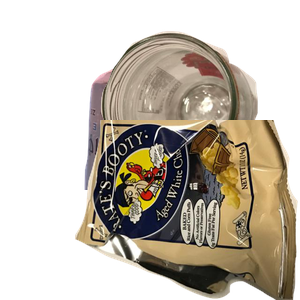glass: (98, 29, 300, 198)
metal: (82, 66, 270, 246)
plastic: (91, 152, 281, 300)
trash: (75, 120, 300, 300)
